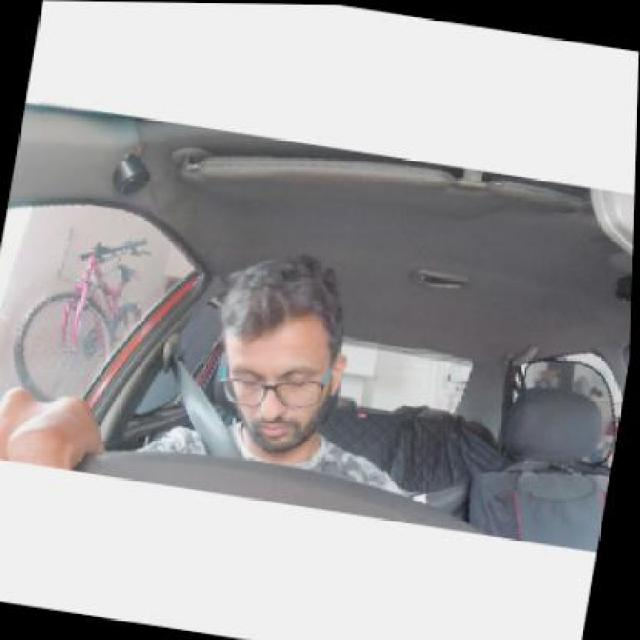drowsy: (213, 248, 356, 455)
